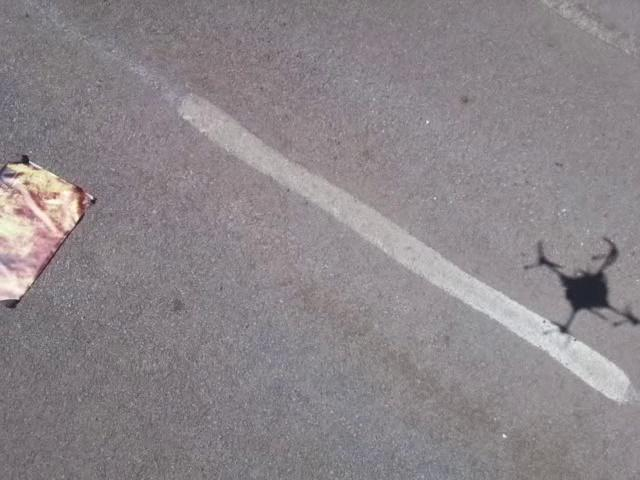fire-poster: (0, 152, 97, 309)
